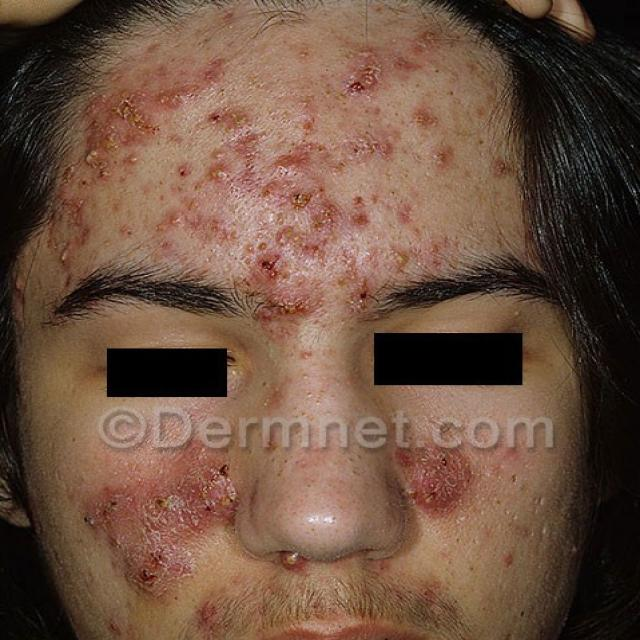Acne: (79, 34, 547, 262), (72, 443, 248, 611), (226, 536, 382, 622), (377, 417, 496, 526), (471, 439, 553, 591)
